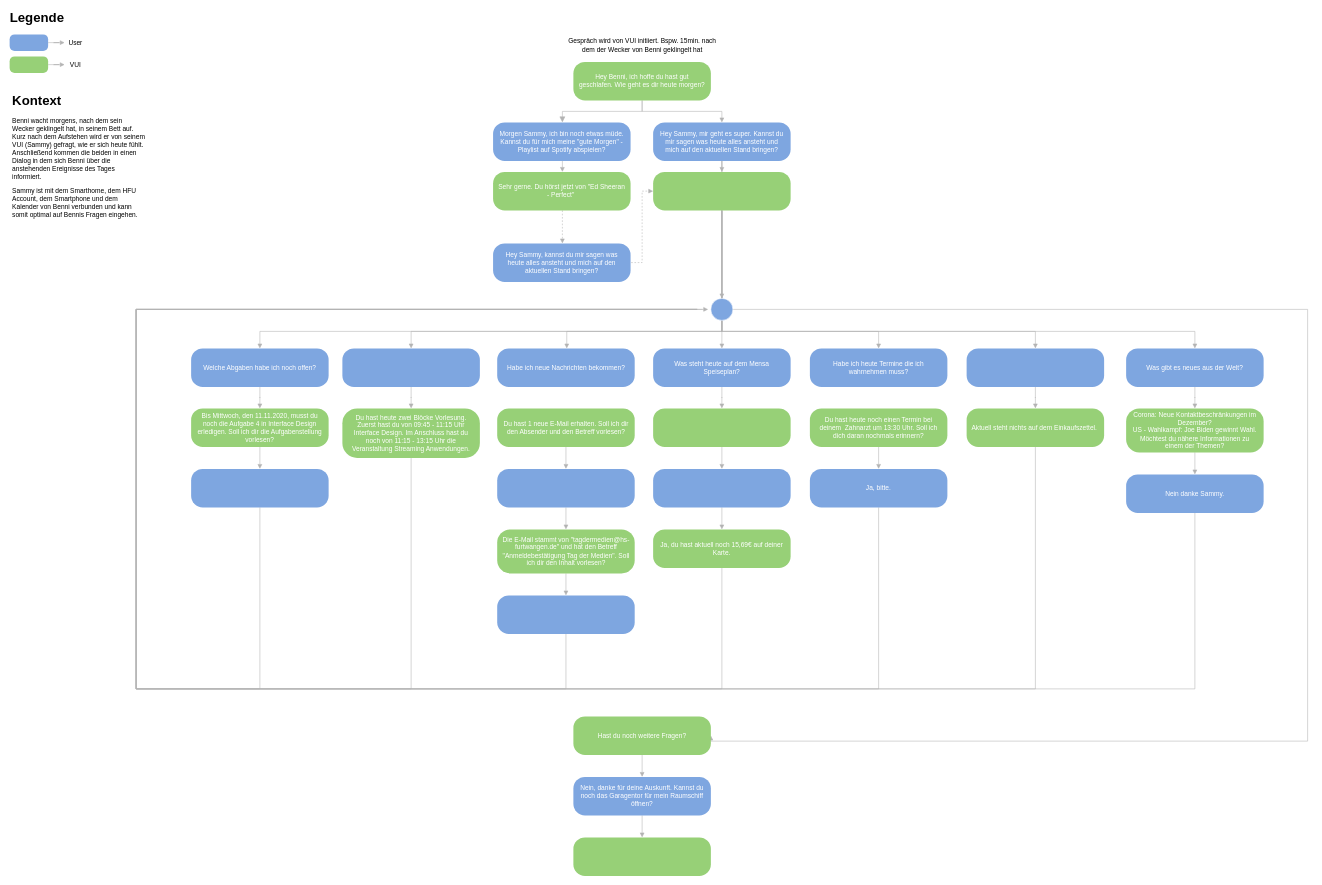
Some shapes in this 1322 by 885 pixel diagram are drawn without their labels. The centre of each missing label's shape, as x and y in pixels:
Auf dem Speiseplan steht, dass es heute Currywurst mit Pommes gibt.: pixel 721 427
Benni: pixel 28 42
Des wäre super.: pixel 565 488
Haha Benni, ich öffne das Garagentor für dein Fahrrad. Bis später ...: pixel 642 856
Nein danke, ich erinnere mich an die Aufgabe.: pixel 259 488
Nein das ist nicht nötig, da es sich lediglich um eine Bestätigung handelt.: pixel 565 614
Reicht mein Guthaben auf der Mensakarte dafür?: pixel 721 488
Sammy: pixel 28 64
Sehr gerne, mit was soll ich beginnen?: pixel 721 191
Was steht auf dem Einkaufszettel?: pixel 1035 367
Welche Vorlesungen habe ich heute?: pixel 411 367
